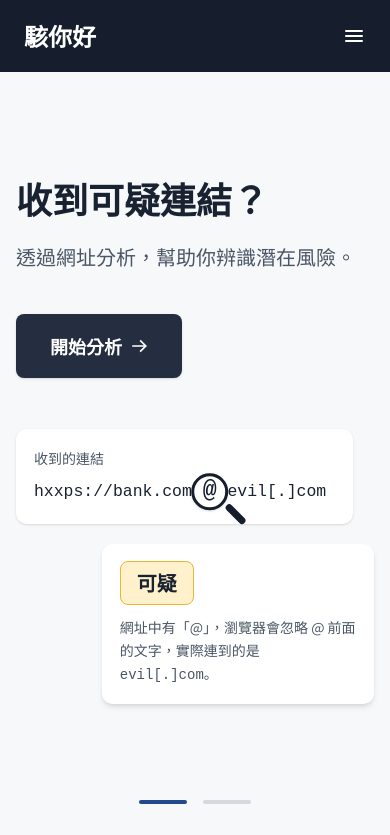
Scenario: 漢堡選單 › 預設收合，點擊後展開三個內頁連結
Click the button named "開啟選單" at x=354, y=36, box [334,16,374,56]
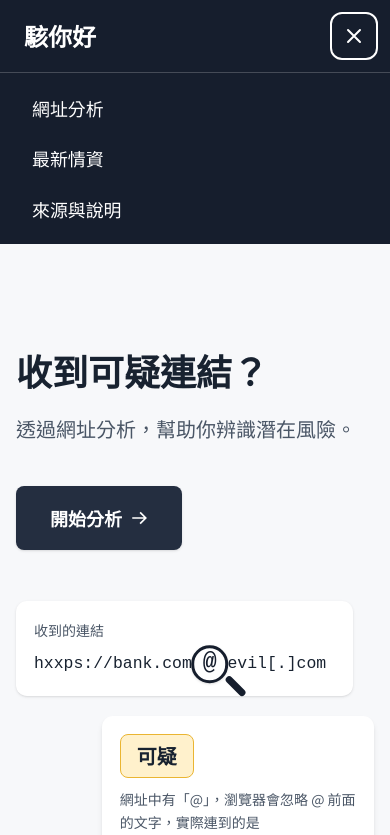
Expected: the button named "開啟選單" is expanded, [334,16,374,56]
